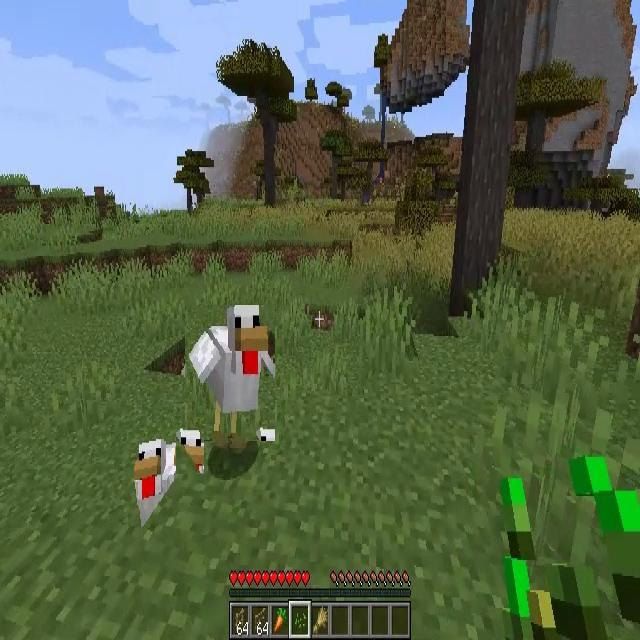duck: (185, 306, 275, 442), (133, 440, 178, 519), (176, 428, 204, 474)
